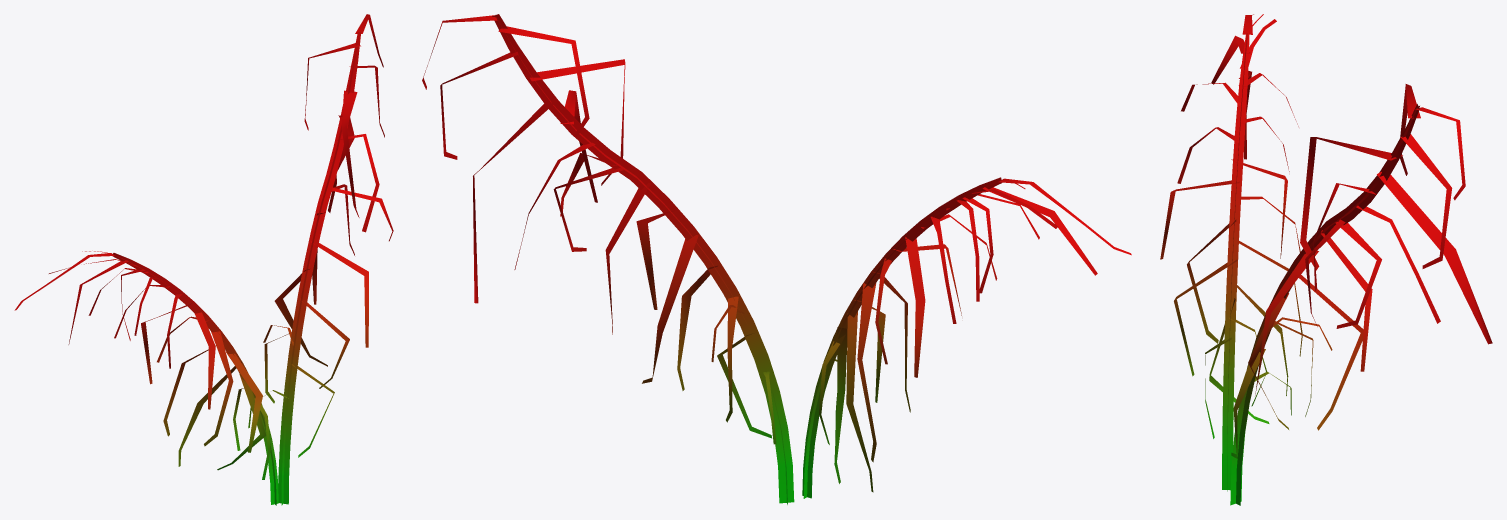
File: Giant Reed_LOD2_Var4_sjllX.fbx
The picture shows the model from 3 angles, left to right: view 1: azimuth 30°, elevation 25°; view 2: azimuth 150°, elevation 25°; view 3: azimuth 270°, elevation 25°; orthographic projection. The views are drawn at different scales.
Parts seen in each view (by area): view 1: _dbdb_Var4_LOD002; view 2: _dbdb_Var4_LOD002; view 3: _dbdb_Var4_LOD002.
Part boxes in pixels (x1=…): _dbdb_Var4_LOD002: x1=14, y1=14, x2=393, y2=505; _dbdb_Var4_LOD002: x1=422, y1=14, x2=1131, y2=504; _dbdb_Var4_LOD002: x1=1160, y1=14, x2=1492, y2=505.
Bounding box in the file's own units: 139 × 113 × 69.64.
